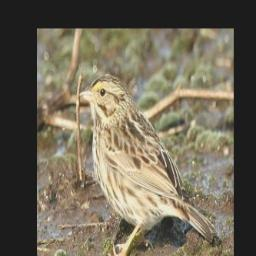Sparrow: (79, 71, 220, 256)
